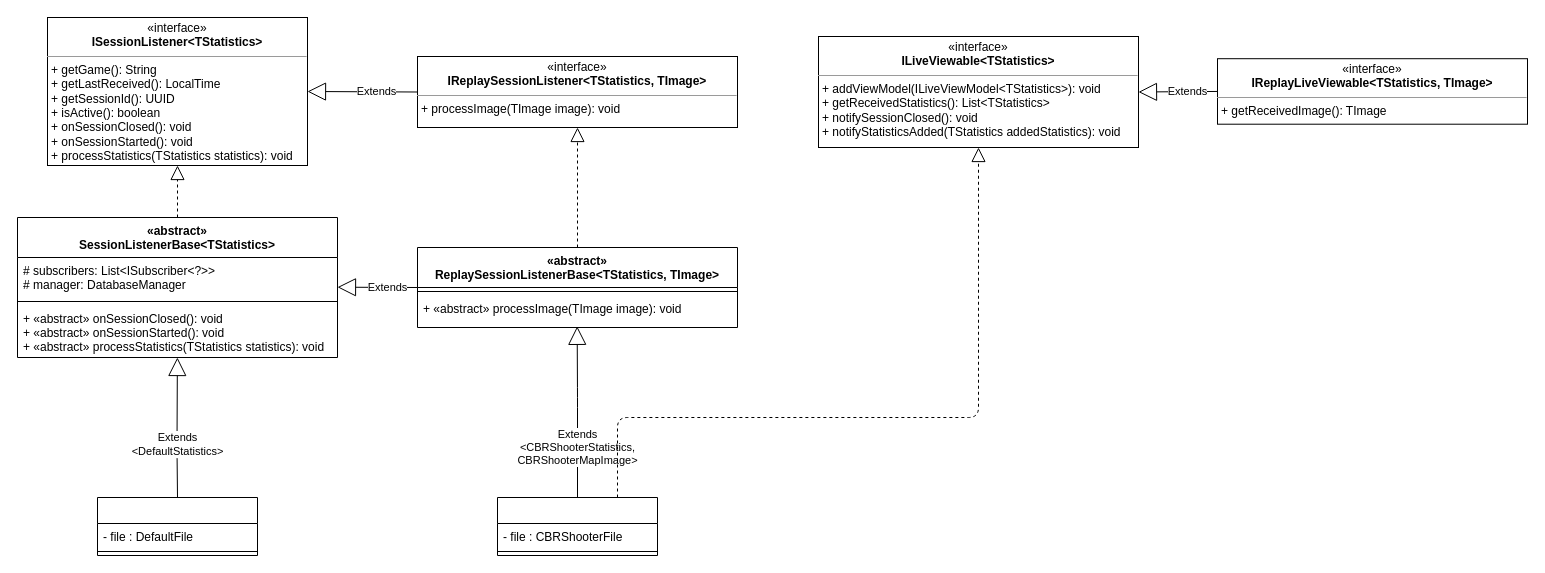
Some shapes in this 1545 by 573 pixel diagram are drawn without their labels. Each missing label, with the box of its shape:
CBRShooterListener: (496, 496, 658, 556)
DefaultListener: (96, 496, 258, 556)
